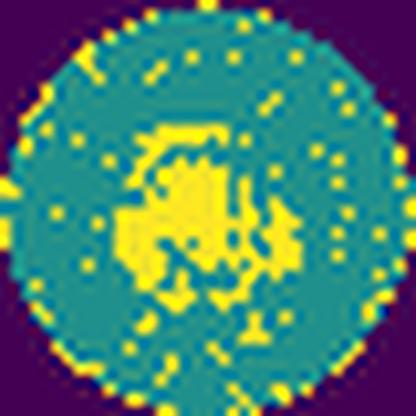Center: (114, 125, 304, 318)
